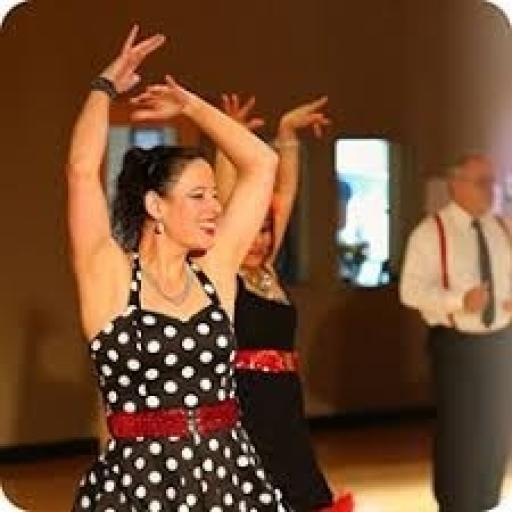dancing: (50, 40, 321, 494)
